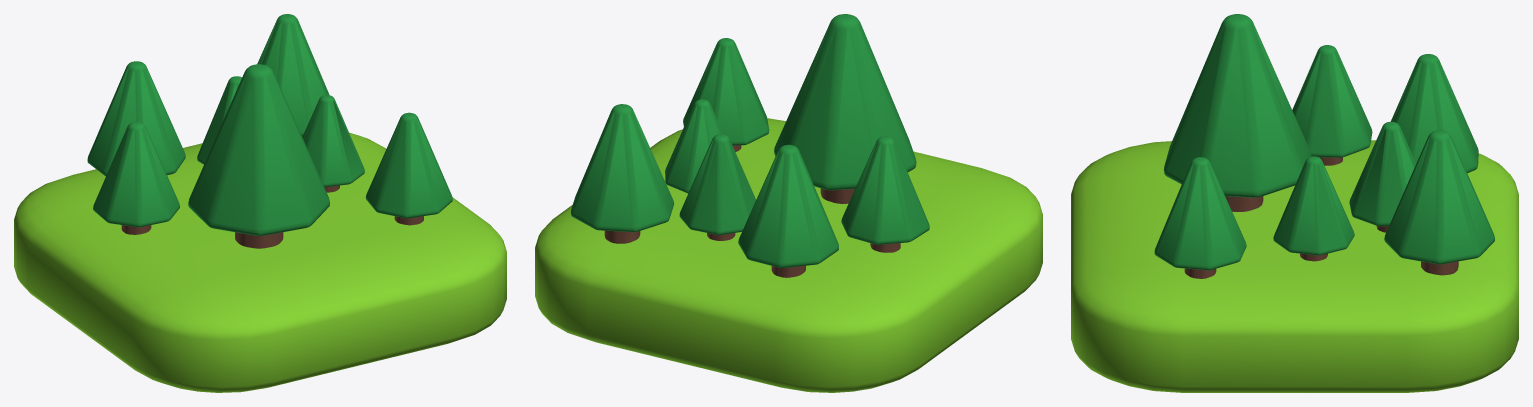
The model's file is forest-tile-01.dae.
The picture shows the model from 3 angles, left to right: view 1: azimuth 30°, elevation 25°; view 2: azimuth 150°, elevation 25°; view 3: azimuth 270°, elevation 25°; orthographic projection. The views are drawn at different scales.
Parts seen in each view (by area): view 1: Base, Tree 4, Tree 6, Tree 3, Tree, Tree 5, Tree 7, Tree 2; view 2: Base, Tree 4, Tree 5, Tree, Tree 6, Tree 2, Tree 3, Tree 7; view 3: Base, Tree 4, Tree 5, Tree 3, Tree 6, Tree 7, Tree, Tree 2.
Boxes of the visible parts, bbox=[...] form: Base: bbox=[14, 132, 506, 392]; Tree 4: bbox=[188, 64, 329, 248]; Tree 6: bbox=[93, 121, 179, 234]; Tree 3: bbox=[365, 112, 452, 225]; Tree: bbox=[87, 61, 185, 175]; Tree 5: bbox=[257, 14, 329, 136]; Tree 7: bbox=[302, 95, 364, 192]; Tree 2: bbox=[197, 76, 241, 164]; Base: bbox=[535, 118, 1042, 392]; Tree 4: bbox=[774, 14, 916, 203]; Tree 5: bbox=[570, 104, 673, 243]; Tree: bbox=[738, 144, 838, 277]; Tree 6: bbox=[841, 136, 929, 252]; Tree 2: bbox=[679, 134, 755, 240]; Tree 3: bbox=[683, 38, 769, 151]; Tree 7: bbox=[665, 99, 723, 193]; Base: bbox=[1071, 140, 1518, 392]; Tree 4: bbox=[1163, 14, 1311, 211]; Tree 5: bbox=[1384, 130, 1494, 275]; Tree 3: bbox=[1154, 157, 1246, 278]; Tree 6: bbox=[1292, 45, 1372, 165]; Tree 7: bbox=[1273, 156, 1354, 261]; Tree: bbox=[1391, 54, 1478, 172]; Tree 2: bbox=[1349, 121, 1415, 232].
Bounding box in the file's own units: 2 × 2 × 1.41.
